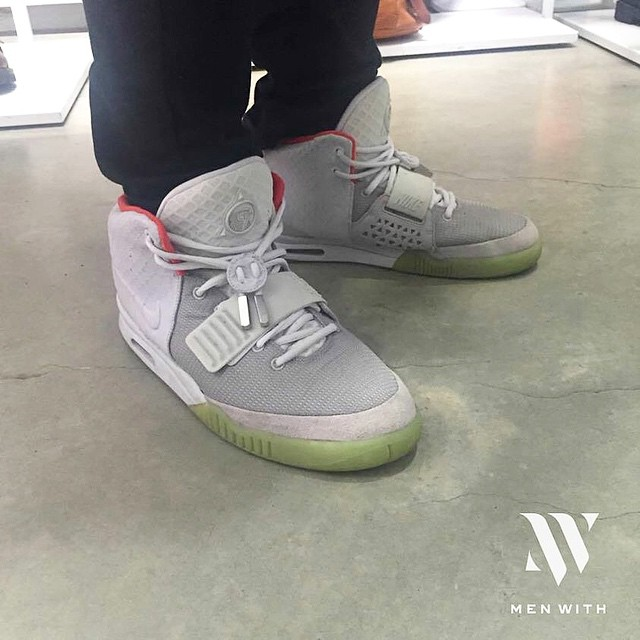sneaker: (89, 148, 435, 498), (251, 63, 549, 292)
